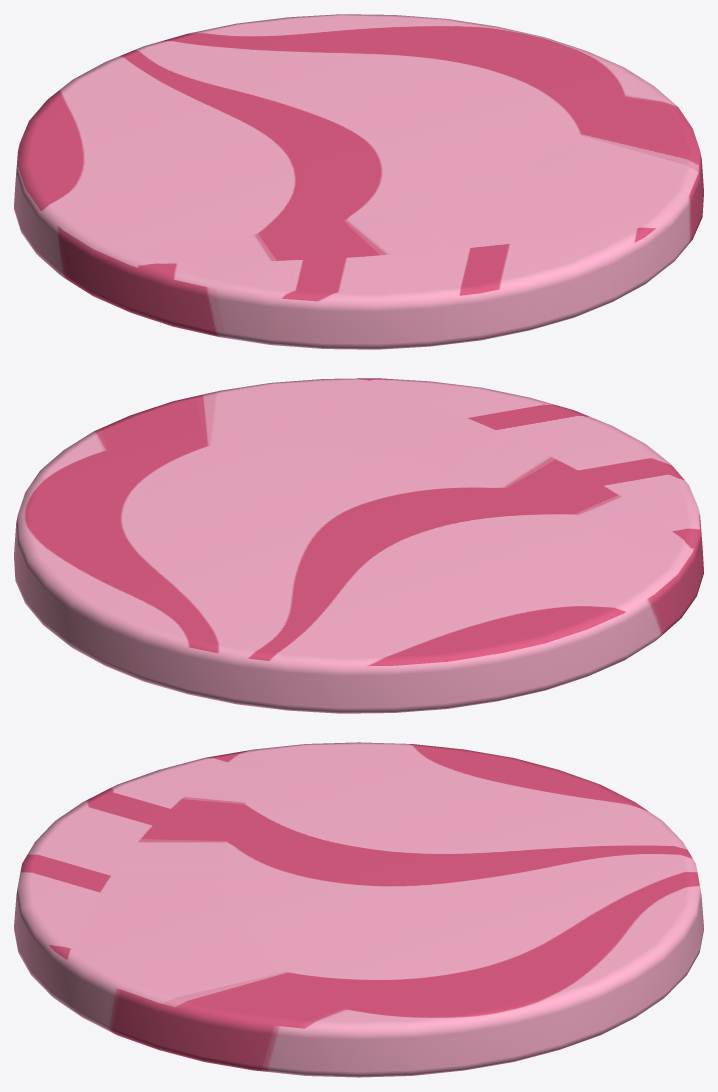
File: Candy.fbx
The picture shows the model from 3 angles, top to bottom: view 1: azimuth 30°, elevation 25°; view 2: azimuth 150°, elevation 25°; view 3: azimuth 270°, elevation 25°; orthographic projection.
Parts seen in each view (by area): view 1: Candy_01; view 2: Candy_01; view 3: Candy_01.
Part boxes in pixels (x1,y1,x2,y2): Candy_01: (14,14,703,349); Candy_01: (14,378,703,713); Candy_01: (14,742,703,1077).
Size of the model in its own units: 295 by 30 by 295.
